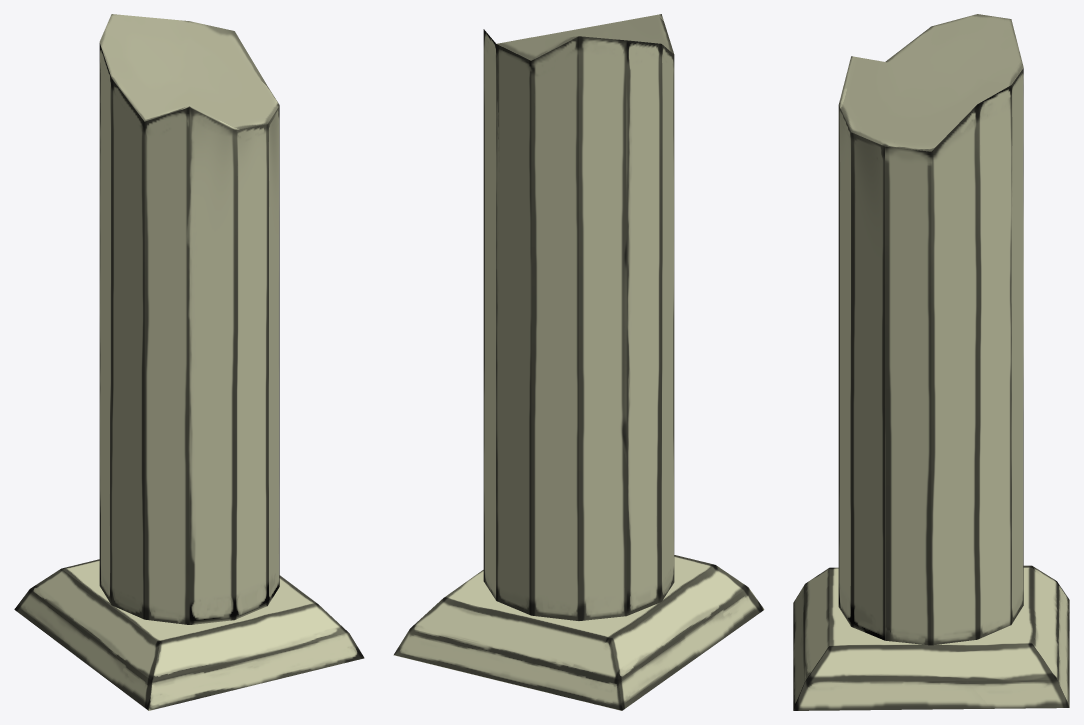
Rendered from columna_rota.fbx.
The picture shows the model from 3 angles, left to right: view 1: azimuth 30°, elevation 25°; view 2: azimuth 150°, elevation 25°; view 3: azimuth 270°, elevation 25°; orthographic projection. The views are drawn at different scales.
Parts seen in each view (by area): view 1: columna_rota; view 2: columna_rota; view 3: columna_rota.
Boxes of the visible parts, x1,y1,x2,y2 form: columna_rota: [14, 14, 364, 710]; columna_rota: [393, 14, 764, 710]; columna_rota: [793, 14, 1069, 710].
Size of the model in its own units: 35.92 by 95.75 by 38.77.
